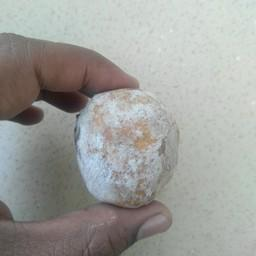Bad_lime: (74, 87, 181, 207)
